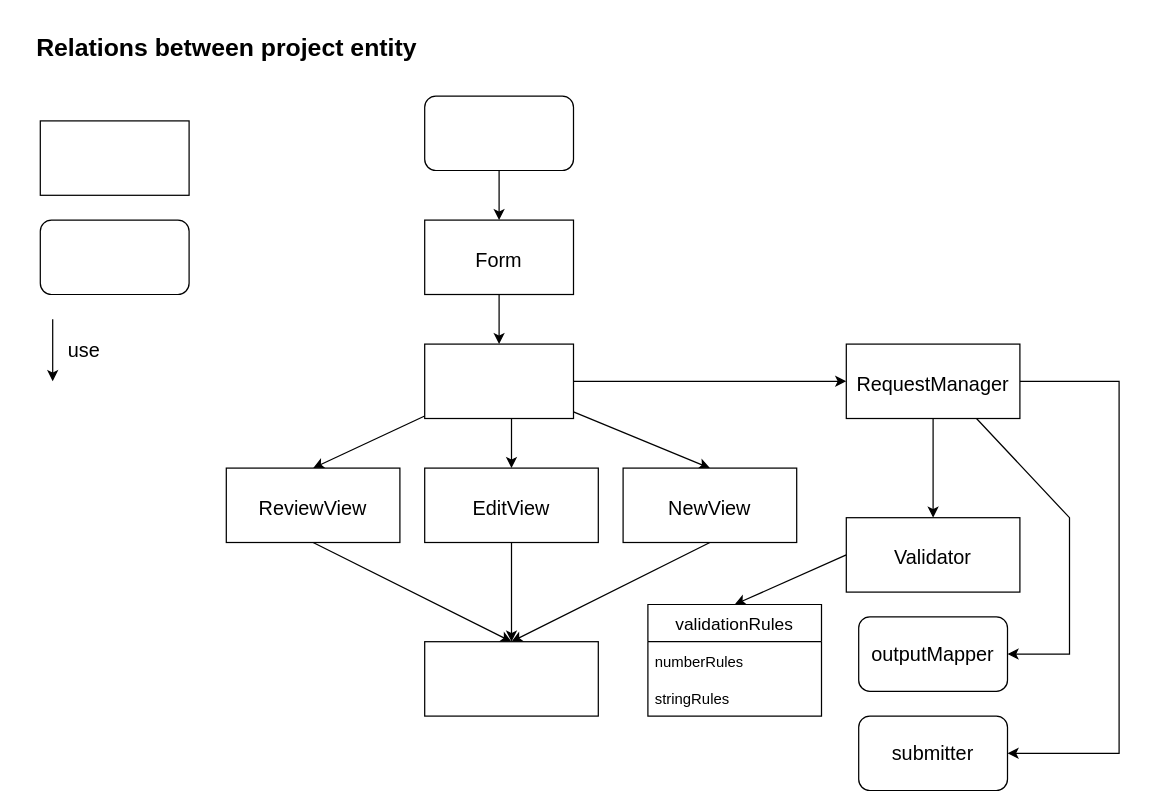
Some shapes in this 1151 by 812 pixel diagram are drawn without their labels. Here are the shapes that lost their labels. From the top down, the centre of each, then its label:
At [498,132]: "index.js (entry)".
At [114,157]: "Component".
At [114,256]: "Function".
At [498,380]: "ViewManager".
At [510,678]: "ViewComponent".
